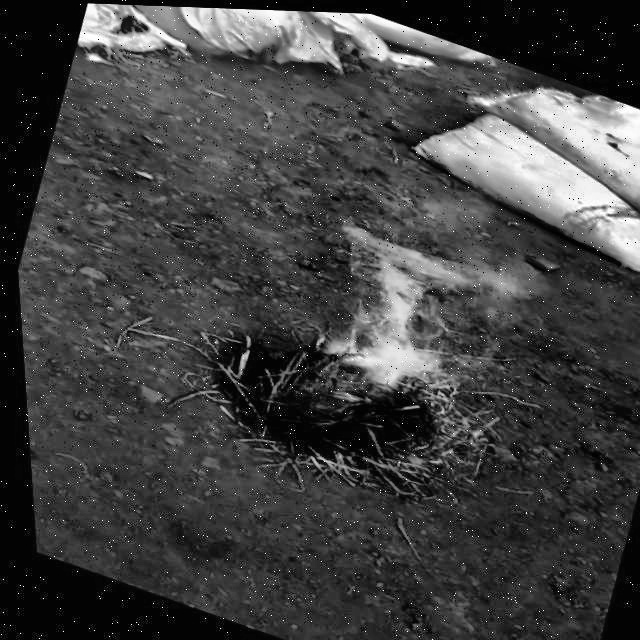Smoke: (287, 150, 580, 450)
